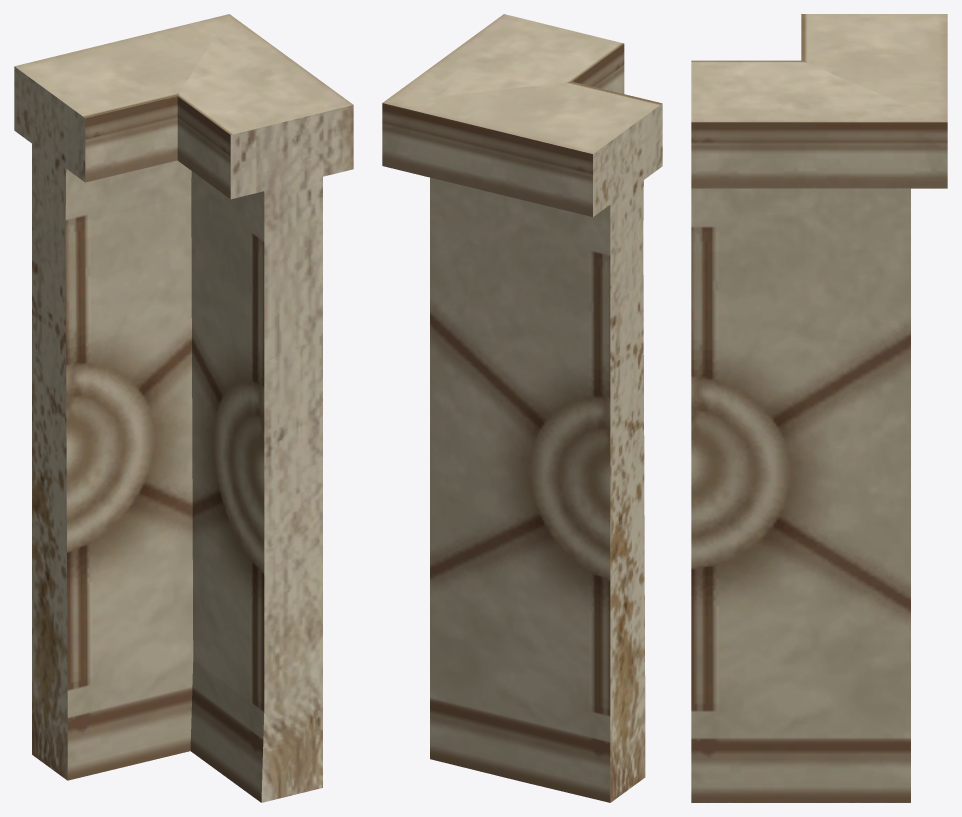
File: svspartarail10.dae
3 renders of one model, left to right at view 1: azimuth 30°, elevation 25°; view 2: azimuth 150°, elevation 25°; view 3: azimuth 270°, elevation 25°, orthographic. The views are drawn at different scales.
Parts seen in each view (by area): view 1: unnamed_object6_cut68-0; view 2: unnamed_object6_cut68-0; view 3: unnamed_object6_cut68-0.
Boxes of the visible parts, x1=… form: unnamed_object6_cut68-0: x1=14, y1=14, x2=353, y2=802; unnamed_object6_cut68-0: x1=382, y1=14, x2=662, y2=802; unnamed_object6_cut68-0: x1=691, y1=14, x2=947, y2=802.
Size of the model in its own units: 35 by 105 by 35.
